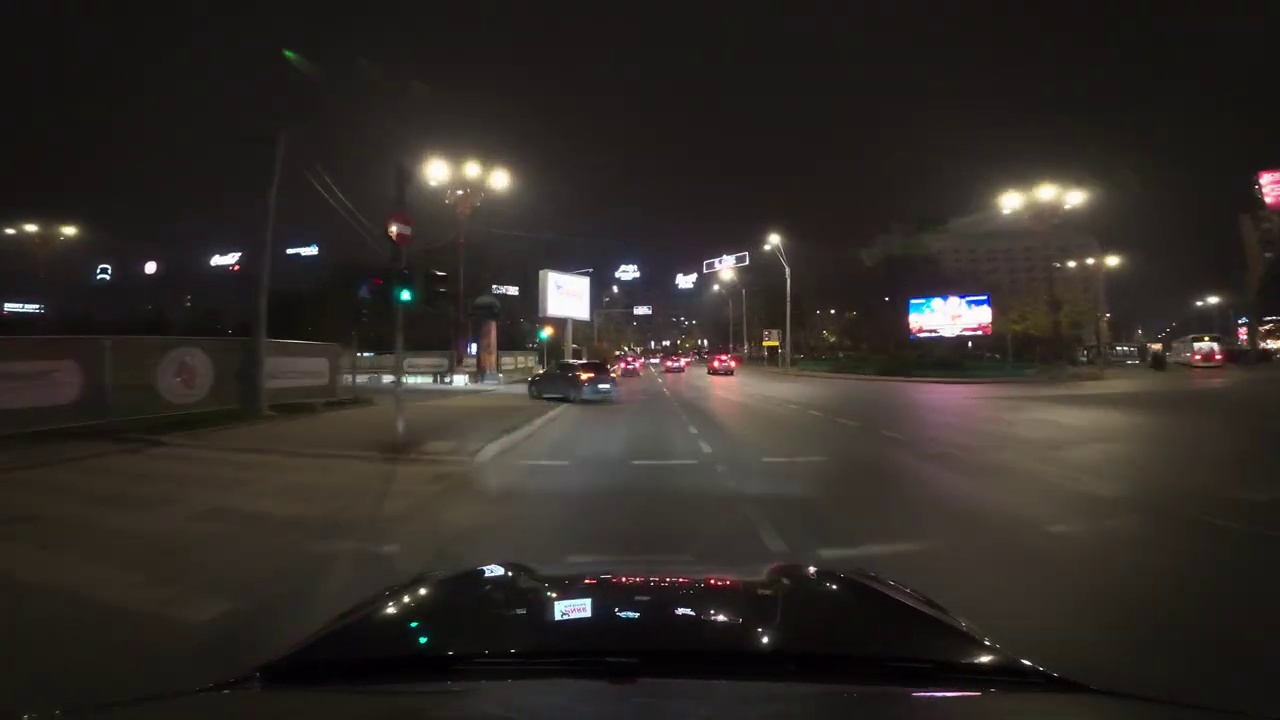acesa: (465, 163, 513, 193), (994, 185, 1032, 218), (420, 156, 454, 188), (484, 166, 513, 193), (1061, 187, 1090, 212), (614, 263, 641, 286), (760, 230, 785, 254), (1101, 252, 1124, 272)
